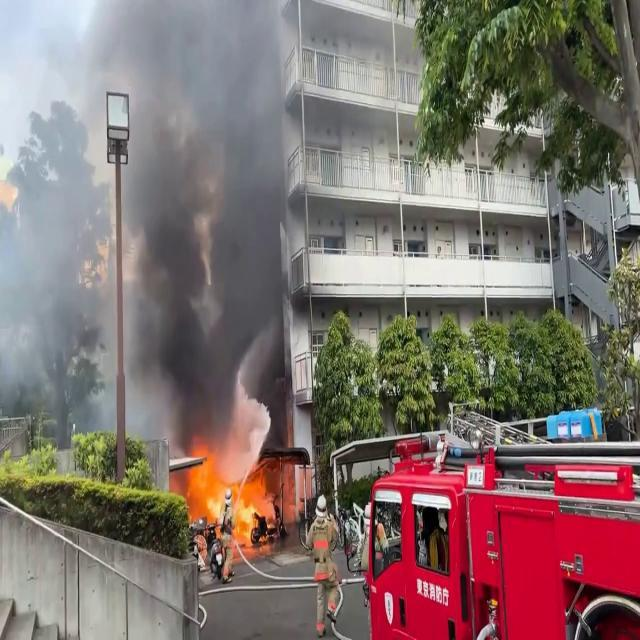Fire: (180, 446, 276, 554)
Smoke: (0, 0, 312, 421)
